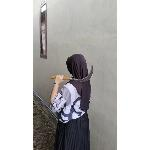Celurit: (48, 65, 96, 82)
